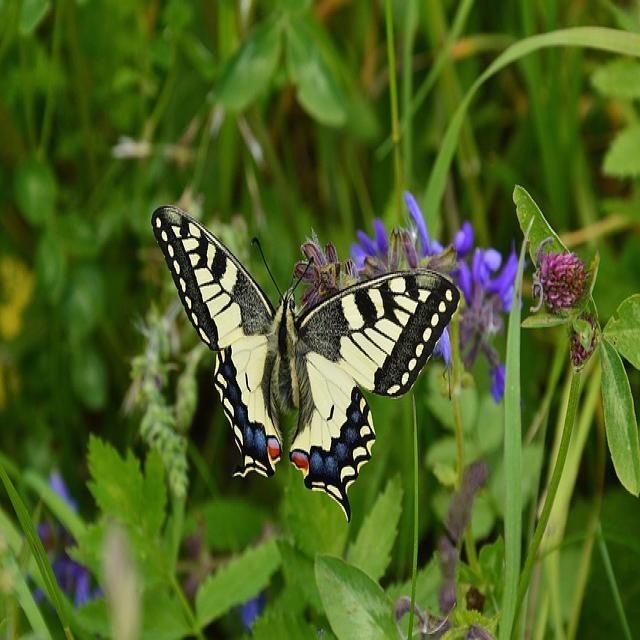butterfly: (152, 207, 459, 519)
